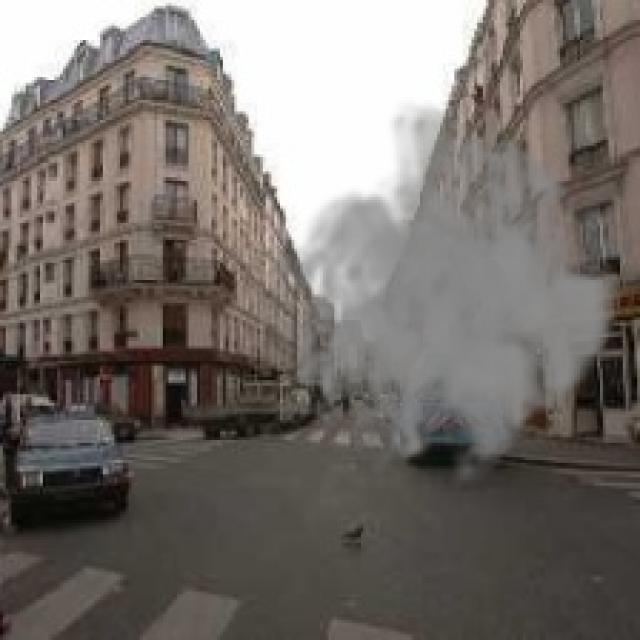smoke: (274, 97, 626, 500)
